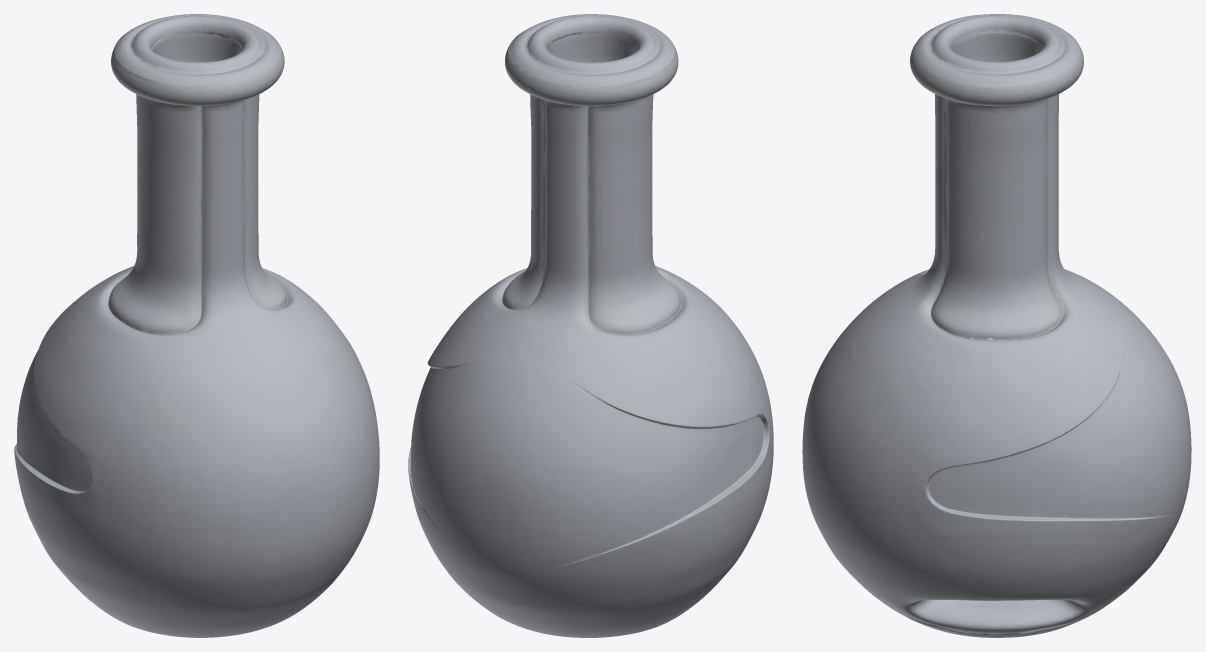
The model's file is flask.glb.
3 views of the same model, side by side, from view 1: azimuth 30°, elevation 25°; view 2: azimuth 150°, elevation 25°; view 3: azimuth 270°, elevation 25° (orthographic).
Visible parts, largest first — view 1: tripo_node_48229125-03aa-4ce3-b822-90e692cee81f; view 2: tripo_node_48229125-03aa-4ce3-b822-90e692cee81f; view 3: tripo_node_48229125-03aa-4ce3-b822-90e692cee81f.
Boxes of the visible parts, x1,y1,x2,y2 form: tripo_node_48229125-03aa-4ce3-b822-90e692cee81f: (14, 14, 379, 637); tripo_node_48229125-03aa-4ce3-b822-90e692cee81f: (408, 14, 773, 637); tripo_node_48229125-03aa-4ce3-b822-90e692cee81f: (802, 14, 1191, 637).
Size of the model in its own units: 0.5639 by 0.9807 by 0.6194.
Materials: 1 (1 with a texture image).
